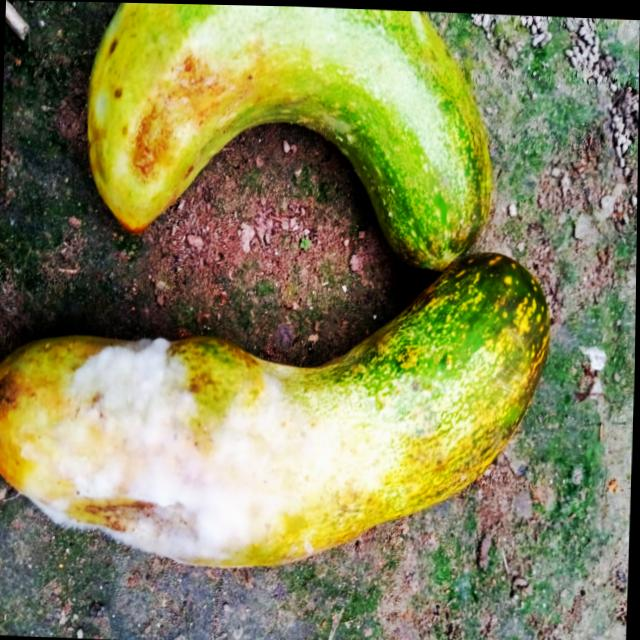Pythium-Fruit-Rot: (25, 329, 321, 572)
